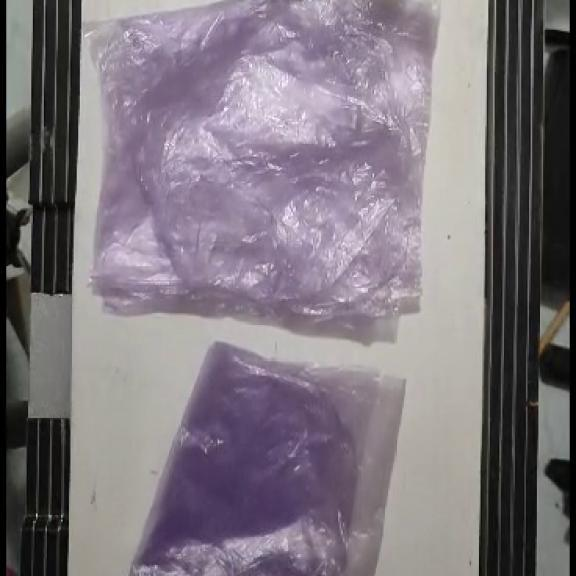Plastik: (79, 1, 445, 324), (129, 339, 405, 576)
